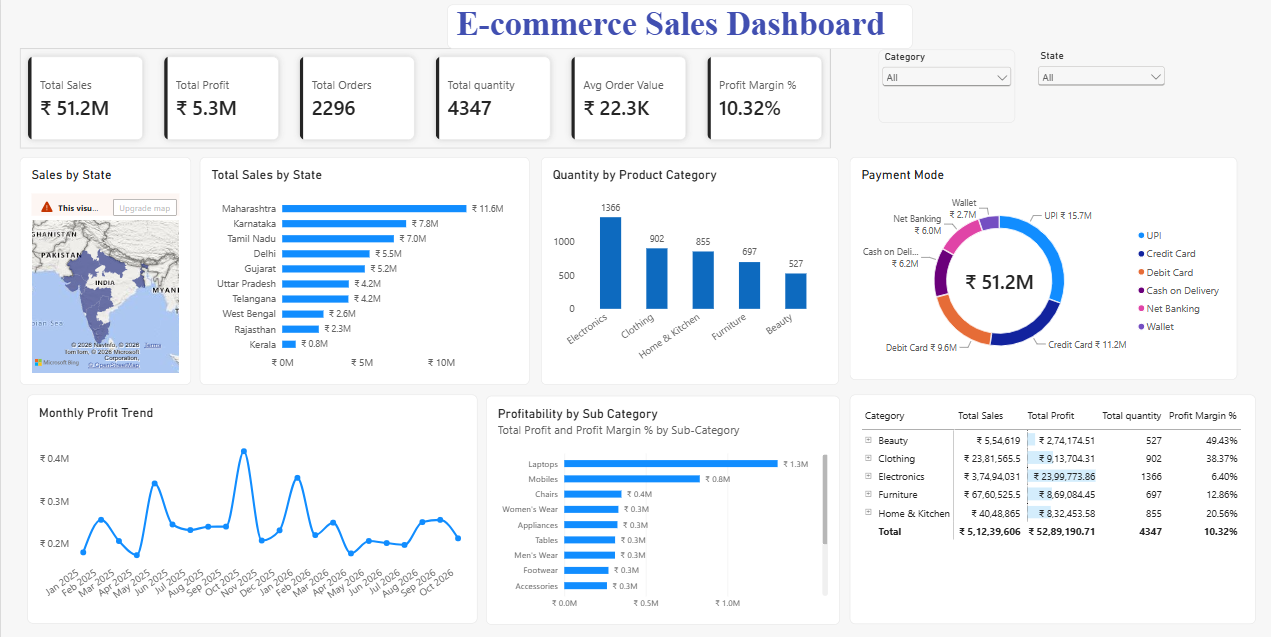

What the dashboard file says about the page in this screenshot:
{"tool":"powerbi","page":{"name":"Page 1","canvas":[1920,1500],"ordinal":0},"visuals":[{"type":"cardVisual","fields":{"Data":["Measure Table.Total Sales","Measure Table.Total Profit","Measure Table.Total Orders","Measure Table.Total quantity","Measure Table.Avg Order Value","Measure Table.Profit Margin %"]},"box":[26.2,73.8,1161.5,143.1],"z":0},{"type":"filledMap","title":"Sales by State","fields":{"Category":["Sales.State"]},"box":[26.2,229.2,244.4,325.6],"z":1},{"type":"clusteredBarChart","title":"Total Sales by State ","fields":{"Category":["Sales.State"],"Y":["Measure Table.Total Sales"]},"box":[284.6,229.2,471.1,325.6],"z":2},{"type":"clusteredColumnChart","title":"Quantity by Product Category","fields":{"Category":["Sales.Category"],"Y":["Measure Table.Total quantity"]},"box":[772.3,229.2,425.7,325.7],"z":3},{"type":"lineChart","title":"Monthly Profit Trend","fields":{"Category":["Date.Month Year"],"Y":["Measure Table.Total Profit"]},"box":[36.9,567.7,642.9,327.1],"z":4},{"type":"clusteredBarChart","title":"Profitability by Sub Category","fields":{"Category":["Sales.Sub-Category"],"Y":["Measure Table.Total Profit"]},"box":[692.3,569.2,505.7,327.1],"z":6},{"type":"donutChart","title":"Payment Mode","fields":{"Category":["Sales.Payment Mode"],"Y":["Measure Table.Total Sales"]},"box":[1212.3,229.2,553.8,318.5],"z":7},{"type":"pivotTable","fields":{"Rows":["Sales.Category","Sales.Sub-Category"],"Values":["Measure Table.Total Sales","Measure Table.Total Profit","Measure Table.Total quantity","Measure Table.Profit Margin %"]},"box":[1212.3,567.7,580,327.7],"z":8},{"type":"slicer","fields":{"Values":["Sales.Category"]},"box":[1253.8,75.4,195.4,104.6],"z":9},{"type":"textbox","box":[636.9,10.8,664.6,63.1],"z":11},{"type":"slicer","fields":{"Values":["Sales.State"]},"box":[1476.9,75.4,190.8,104.6],"z":12}]}

Visuals, with their boxes on the page's 1920x1500 design canvas (x1, y1, x2, y2). These are canvas units, not pixel positions in the 1271x637 screenshot, which may show the page scaled, cropped or inside an application window:
cardVisual - Measure Table.Total Sales x Measure Table.Total Profit: 26/74/1188/217
"Sales by State" filledMap: 26/229/271/555
"Total Sales by State " clusteredBarChart: 285/229/756/555
"Quantity by Product Category" clusteredColumnChart: 772/229/1198/555
"Monthly Profit Trend" lineChart: 37/568/680/895
"Profitability by Sub Category" clusteredBarChart: 692/569/1198/896
"Payment Mode" donutChart: 1212/229/1766/548
pivotTable - Sales.Category x Sales.Sub-Category: 1212/568/1792/895
slicer - Sales.Category: 1254/75/1449/180
textbox: 637/11/1302/74
slicer - Sales.State: 1477/75/1668/180
